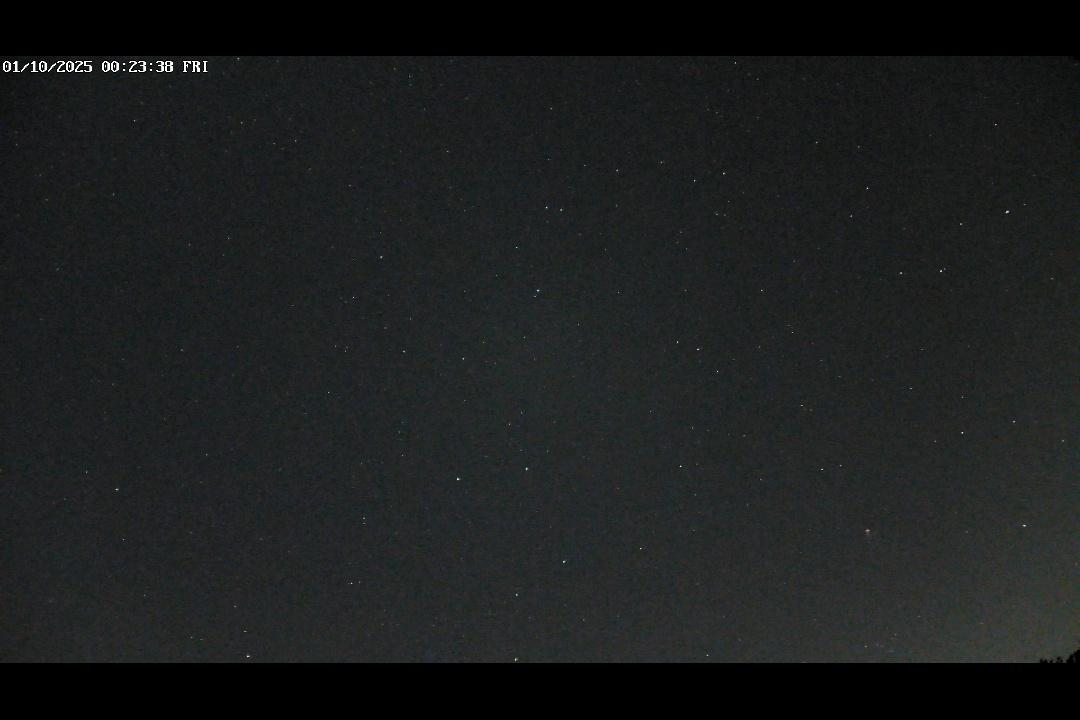Plane: (860, 523, 882, 559)
